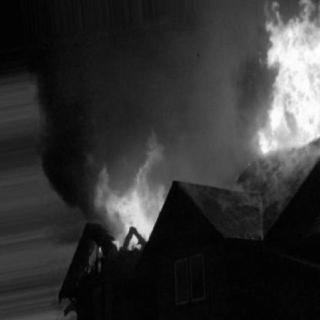Fire: (256, 3, 319, 155), (97, 143, 166, 250)
Smoke: (40, 12, 178, 142), (178, 6, 255, 182)
